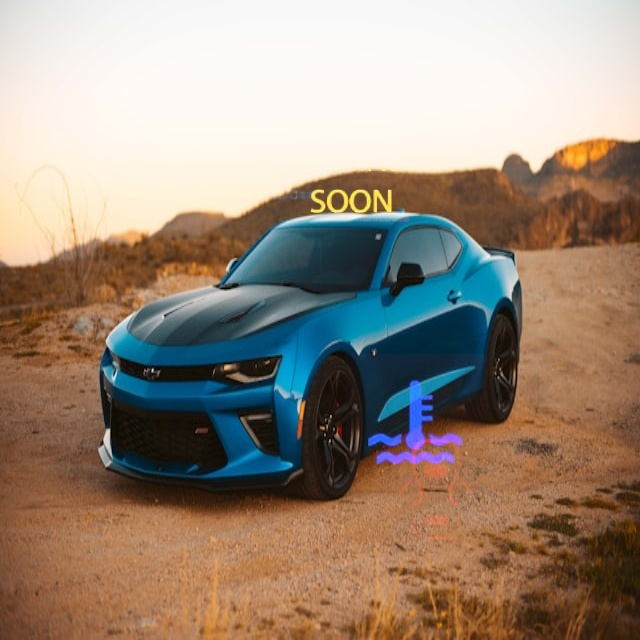symbol: (120, 6, 324, 210), (361, 418, 511, 568), (346, 354, 484, 492), (282, 96, 414, 228)
